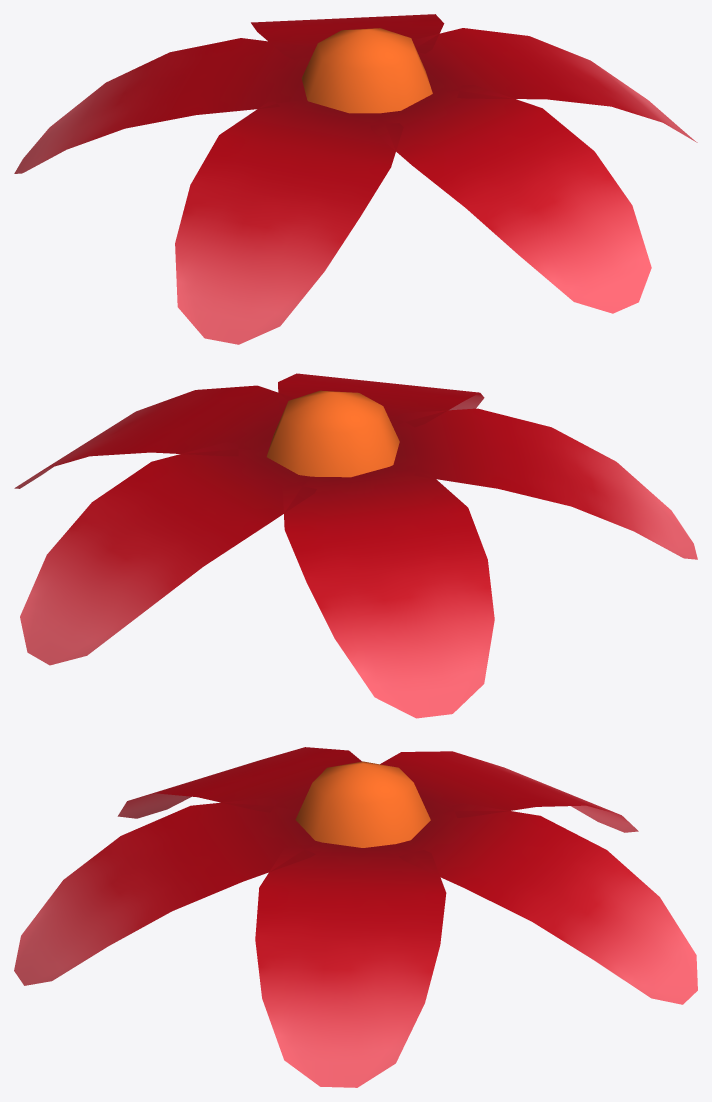
The model's file is FlowerType2.FBX.
3 renders of one model, top to bottom at view 1: azimuth 30°, elevation 25°; view 2: azimuth 150°, elevation 25°; view 3: azimuth 270°, elevation 25°, orthographic.
Visible parts, largest first — view 1: FlowerType2; view 2: FlowerType2; view 3: FlowerType2.
Part boxes in pixels (x1=…): FlowerType2: x1=14, y1=14, x2=697, y2=344; FlowerType2: x1=14, y1=373, x2=697, y2=718; FlowerType2: x1=14, y1=747, x2=697, y2=1087.
Bounding box in the file's own units: 34.25 × 9.79 × 35.17.
